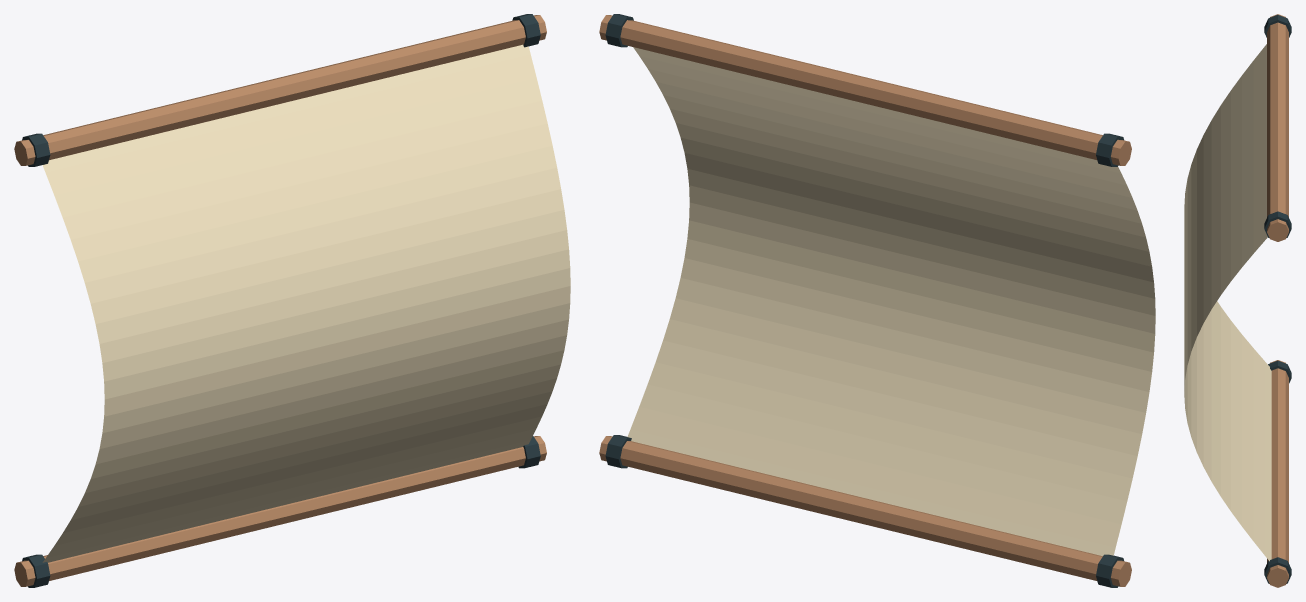
File: secondary_sail.glb
3 views of the same model, side by side, from view 1: azimuth 30°, elevation 25°; view 2: azimuth 150°, elevation 25°; view 3: azimuth 270°, elevation 25° (orthographic). The views are drawn at different scales.
Visible parts, largest first — view 1: secondary_sail cloth square, secondary_sail yard, secondary_sail yard.001; view 2: secondary_sail cloth square, secondary_sail yard, secondary_sail yard.001; view 3: secondary_sail cloth square, secondary_sail yard, secondary_sail yard.001, Yard iron collar.013, Yard iron collar.011, Yard iron collar.010, Yard iron collar.012.
Part boxes in pixels (x1,y1,x2,y2): secondary_sail cloth square: (42,44,570,562); secondary_sail yard: (14,15,546,165); secondary_sail yard.001: (14,436,546,586); secondary_sail cloth square: (627,47,1155,555); secondary_sail yard: (599,15,1131,165); secondary_sail yard.001: (599,436,1131,586); secondary_sail cloth square: (1184,44,1271,561); secondary_sail yard: (1267,14,1288,241); secondary_sail yard.001: (1267,360,1288,587); Yard iron collar.013: (1264,557,1291,583); Yard iron collar.011: (1264,211,1291,237); Yard iron collar.010: (1264,15,1291,37); Yard iron collar.012: (1268,360,1291,383).
Bounding box in the file's own units: 4.68 × 3.88 × 1.02.
